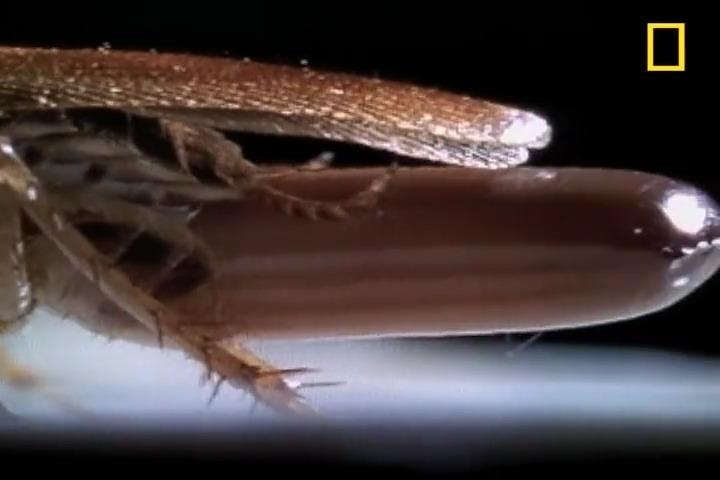cockroach: (0, 43, 649, 426)
